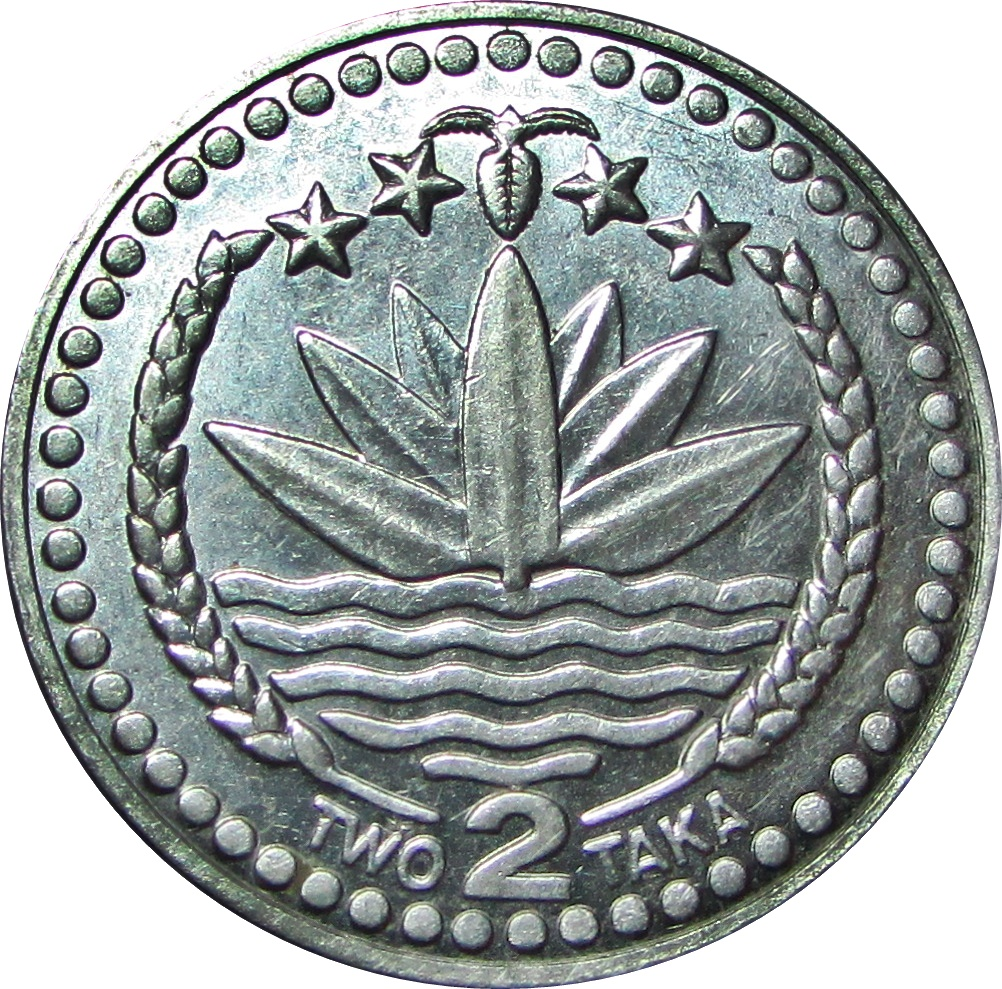5 taka coin: (4, 5, 1002, 989)
